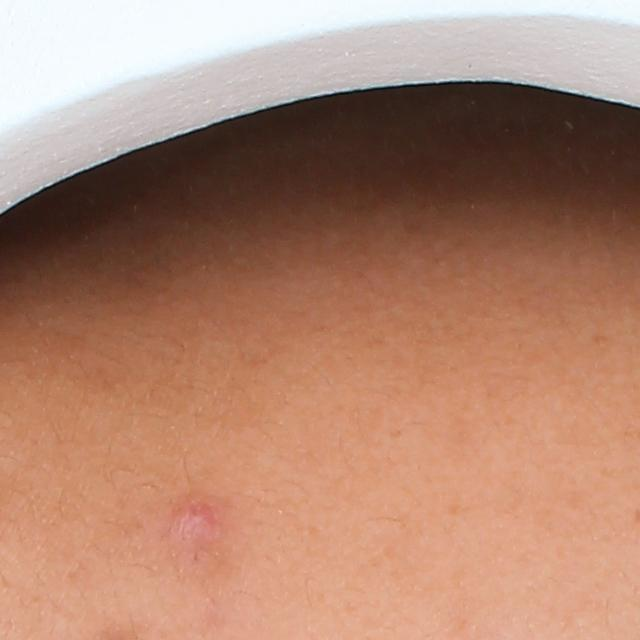papule: (166, 497, 225, 548)
